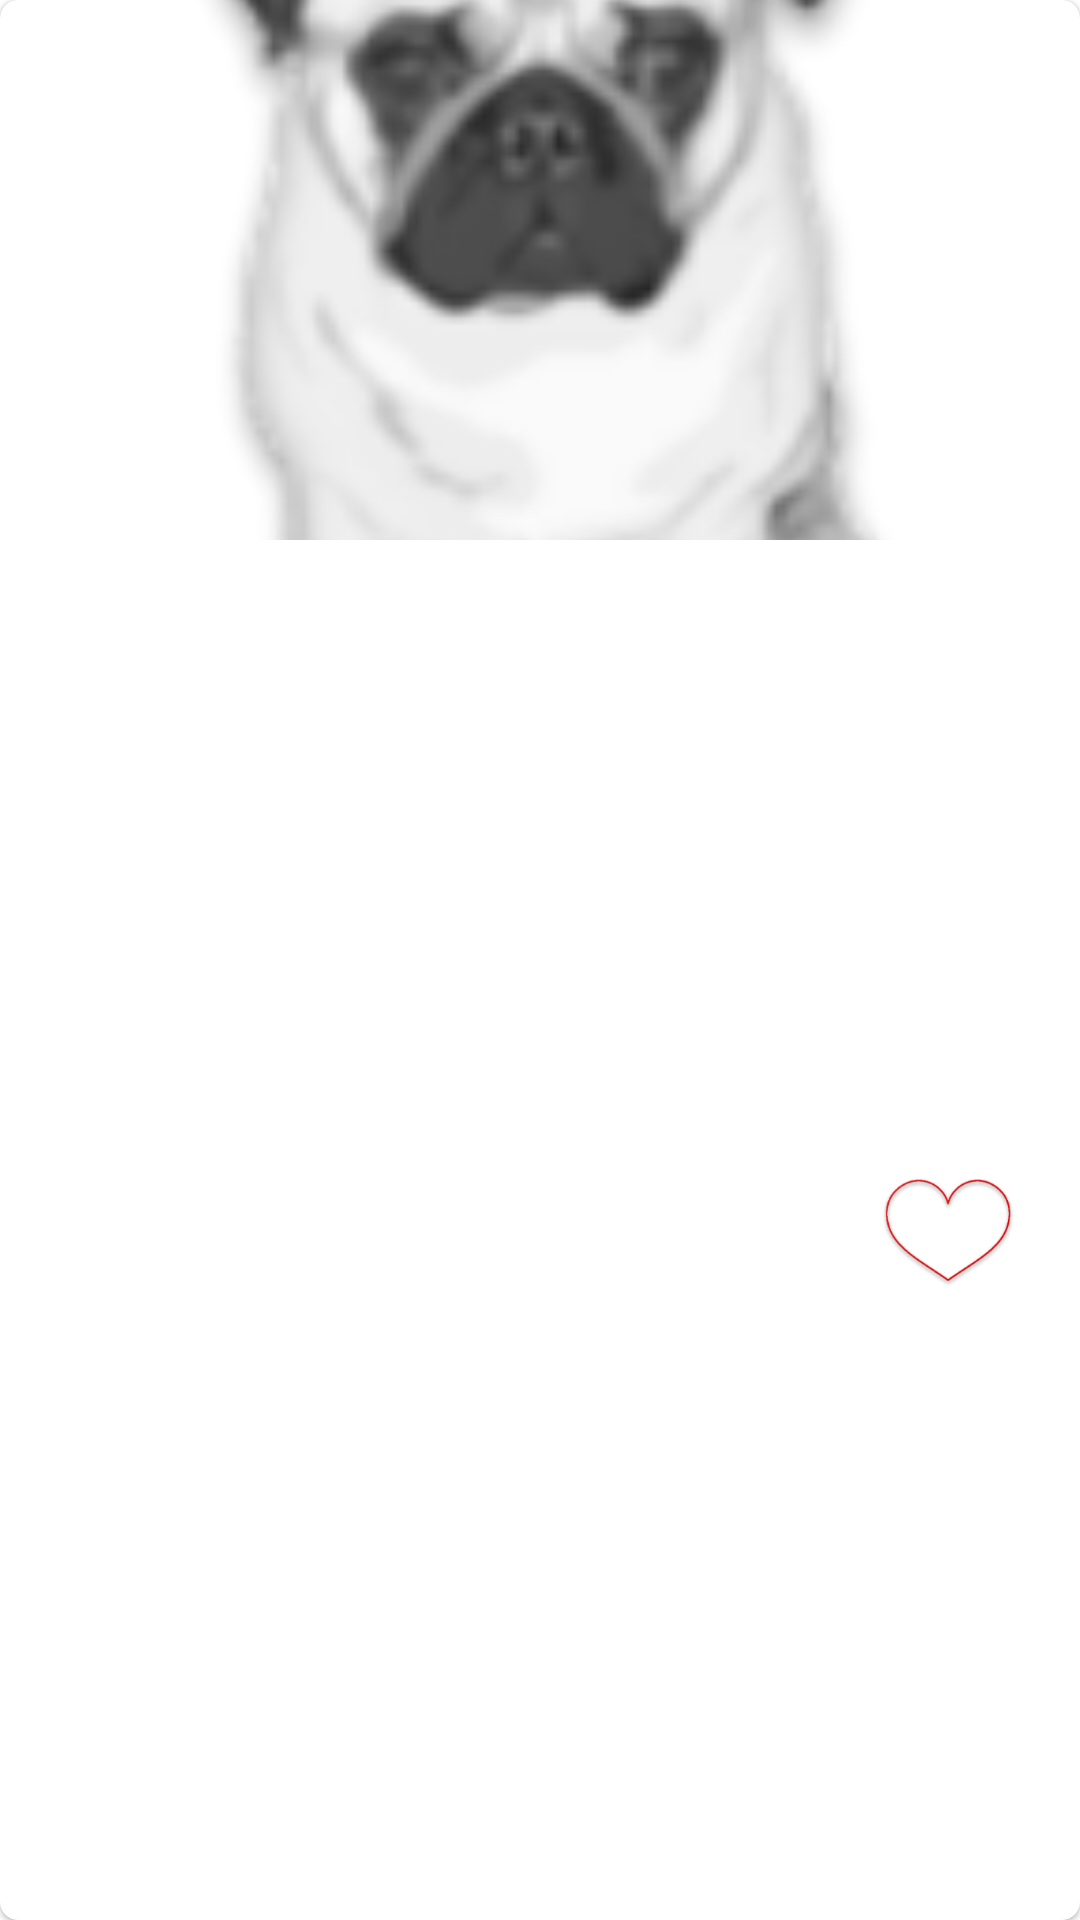

Locate icon controls on the screen. Image size 1080×1920, boxes as (x1,y1,x2,y2).
heart off: (885,1179,1011,1283)
